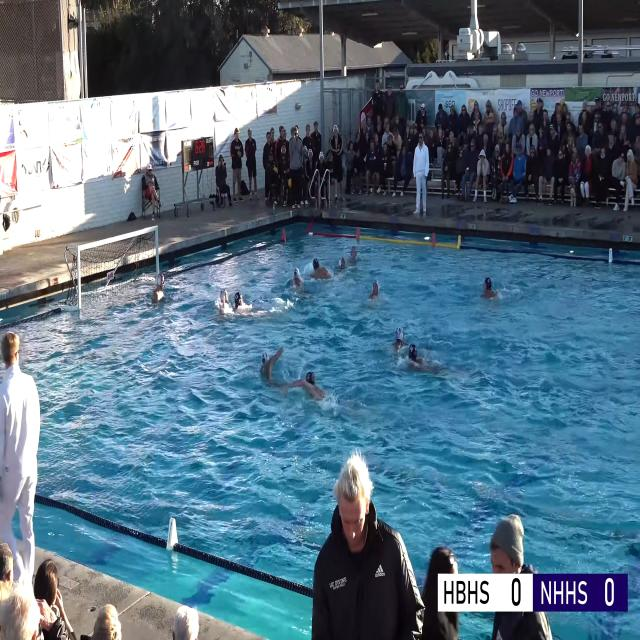ball: (288, 178, 292, 188), (274, 167, 278, 174)
